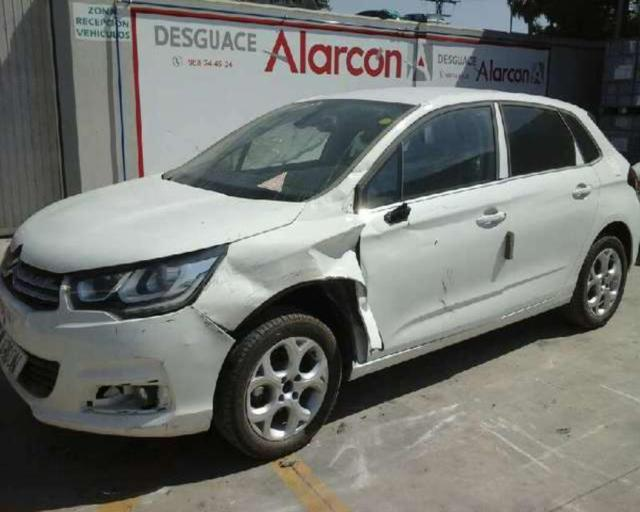dent: (189, 222, 384, 362)
lamp broken: (79, 379, 177, 418)
scratch: (114, 310, 186, 339), (437, 261, 457, 315), (429, 235, 444, 249)
